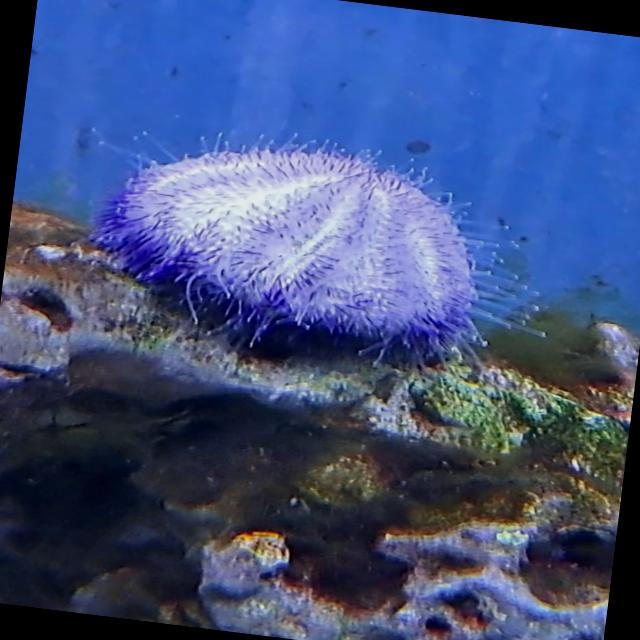Deniz Kestanesi: (82, 70, 544, 396)
